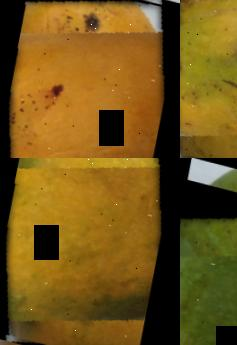PartiallyRipe: (180, 0, 237, 158)
Ripe: (0, 158, 180, 345), (0, 0, 180, 158)
Unripe: (180, 183, 237, 345)
